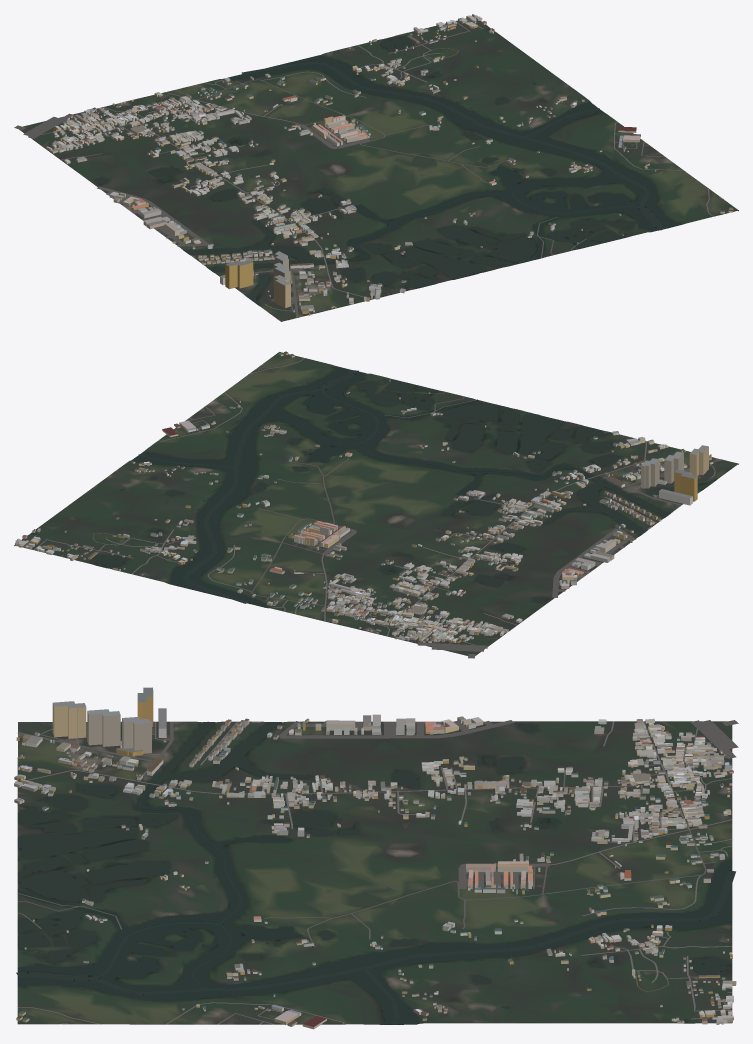
3 views of the same model, one above another, from view 1: azimuth 30°, elevation 25°; view 2: azimuth 150°, elevation 25°; view 3: azimuth 270°, elevation 25° (orthographic). The views are drawn at different scales.
Parts seen in each view (by area): view 1: ground, water, buildings, roads; view 2: ground, water, buildings, roads; view 3: ground, water, buildings, roads.
Part boxes in pixels (x1,y1,x2,y2): ground: [17, 18, 738, 321]; water: [94, 28, 682, 304]; buildings: [46, 14, 733, 315]; roads: [14, 18, 723, 317]; ground: [14, 352, 738, 655]; water: [30, 366, 715, 607]; buildings: [15, 351, 713, 643]; roads: [17, 358, 722, 658]; ground: [17, 721, 732, 1024]; water: [16, 721, 735, 1024]; buildings: [14, 687, 736, 1029]; roads: [17, 720, 738, 1024].
Bounding box in the file's own units: 1441 × 71.74 × 1421.
